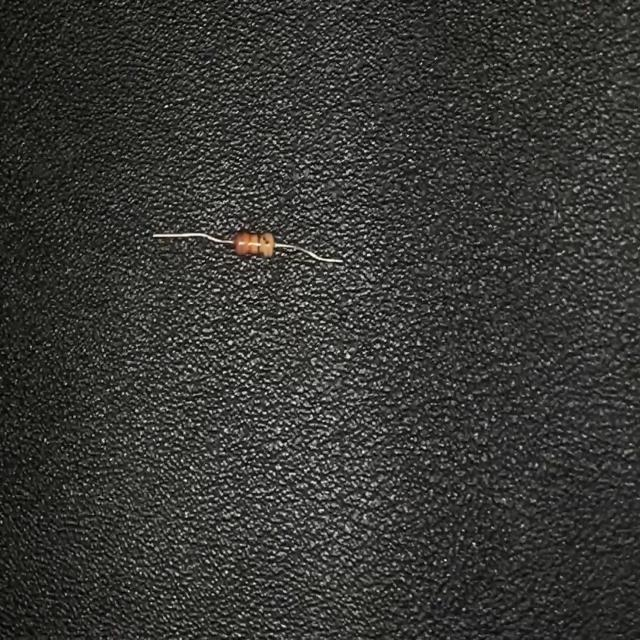burnt: (232, 230, 247, 257)
faded: (262, 232, 271, 258)
resistor: (152, 227, 346, 270)
